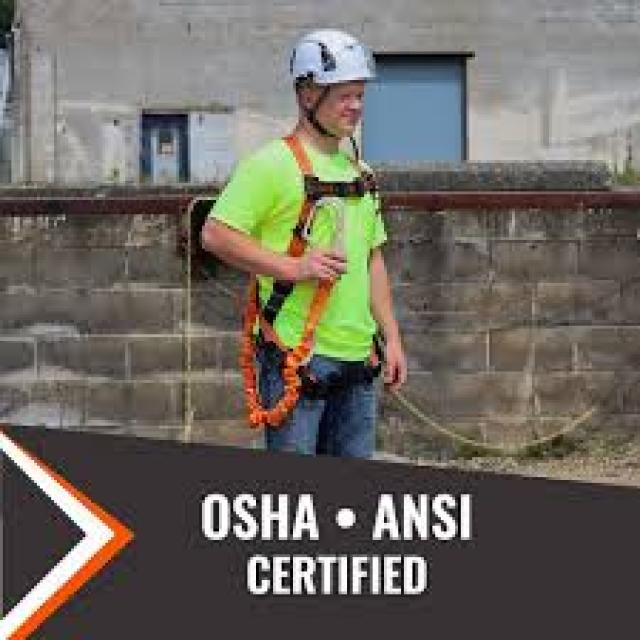harness: (225, 178, 354, 439)
